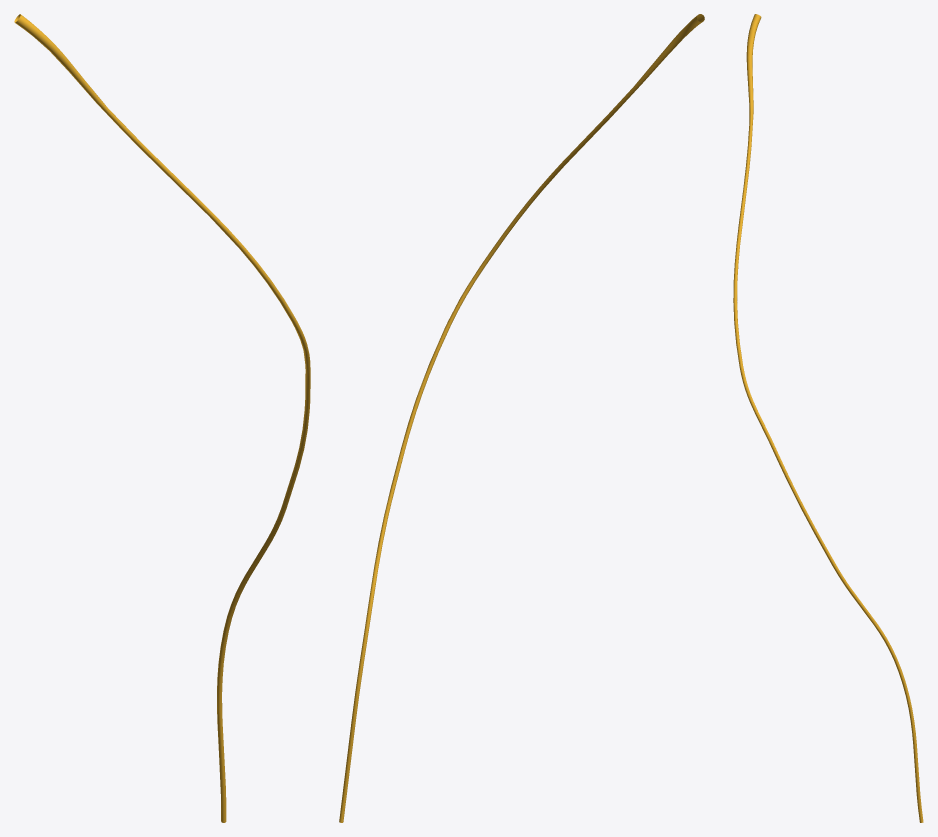
Rendered from nervoso-medial-brachial-cutaneous-nerve-l.glb.
3 views of the same model, side by side, from view 1: azimuth 30°, elevation 25°; view 2: azimuth 150°, elevation 25°; view 3: azimuth 270°, elevation 25° (orthographic). The views are drawn at different scales.
Parts seen in each view (by area): view 1: Medial brachial cutaneous nerve.l; view 2: Medial brachial cutaneous nerve.l; view 3: Medial brachial cutaneous nerve.l.
Boxes of the visible parts, left/top/right/bottom form: Medial brachial cutaneous nerve.l: left=14, top=14, right=310, bottom=822; Medial brachial cutaneous nerve.l: left=339, top=14, right=704, bottom=822; Medial brachial cutaneous nerve.l: left=733, top=14, right=923, bottom=822.
Size of the model in its own units: 0.0715 by 0.2033 by 0.0503.
